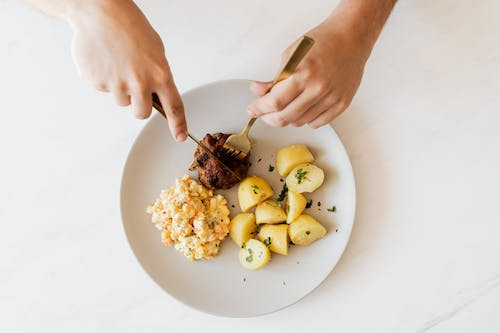knife: (188, 132, 241, 183)
